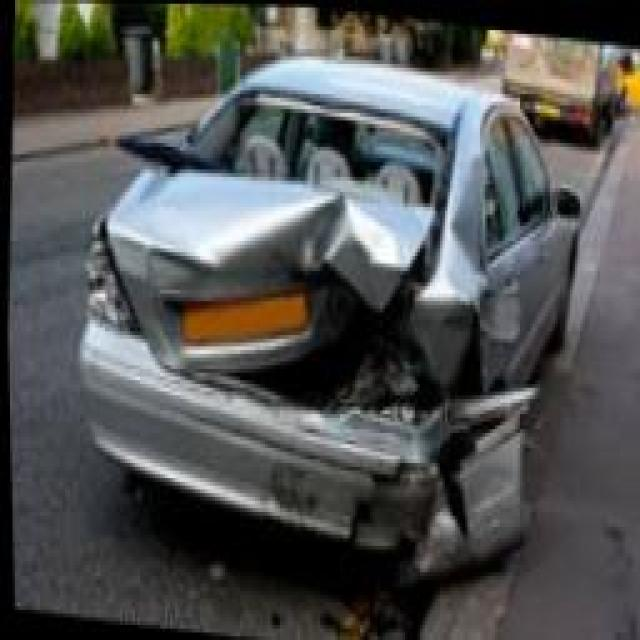Bumper: (72, 321, 535, 562)
Dickey: (107, 137, 438, 423)
Fender: (414, 226, 508, 393)
Light: (350, 297, 444, 422), (74, 227, 134, 332)
Windshield: (186, 90, 450, 221)
